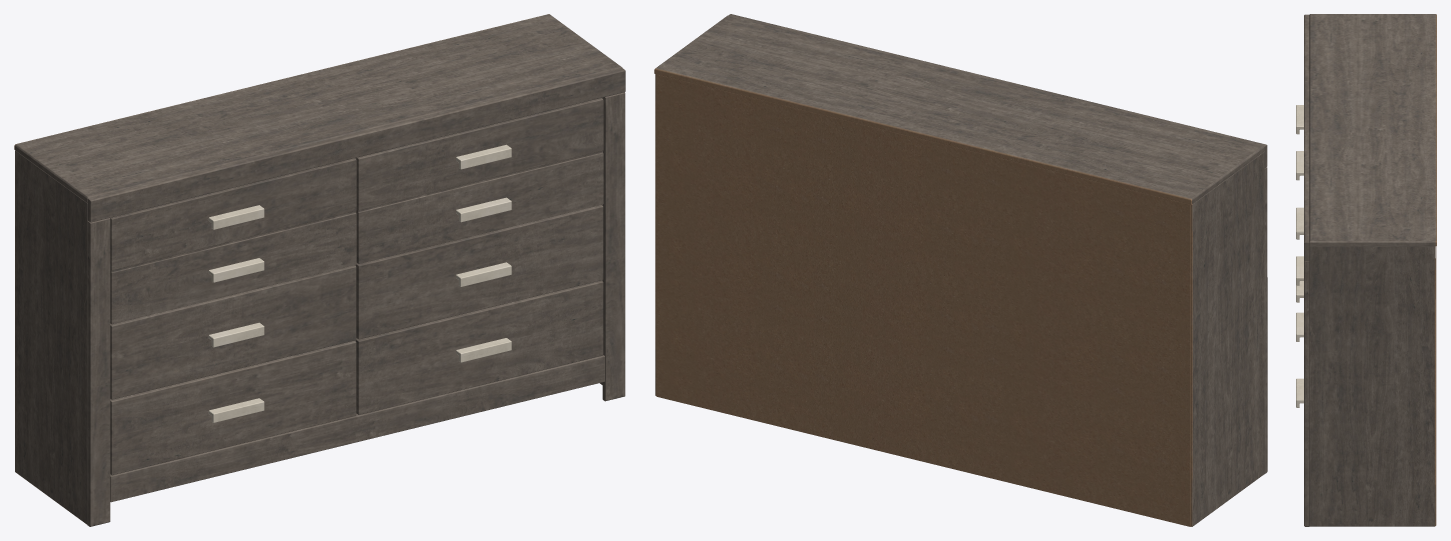
3 views of the same model, side by side, from view 1: azimuth 30°, elevation 25°; view 2: azimuth 150°, elevation 25°; view 3: azimuth 270°, elevation 25° (orthographic). The views are drawn at different scales.
Visible parts, largest first — view 1: B070-31; view 2: B070-31; view 3: B070-31.
Boxes of the visible parts, x1,y1,x2,y2 form: B070-31: (14,14,625,526); B070-31: (654,14,1267,526); B070-31: (1296,14,1436,526).
Size of the model in its own units: 1.58 by 0.925 by 0.4127.
1 material, 1 textured.
